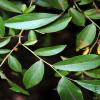Blueberry leaf: (20, 57, 50, 92), (6, 12, 64, 29), (52, 54, 99, 73), (54, 75, 86, 99), (75, 21, 99, 53), (30, 43, 72, 57), (5, 54, 25, 73), (0, 0, 25, 15), (67, 8, 87, 26), (25, 30, 37, 50)
